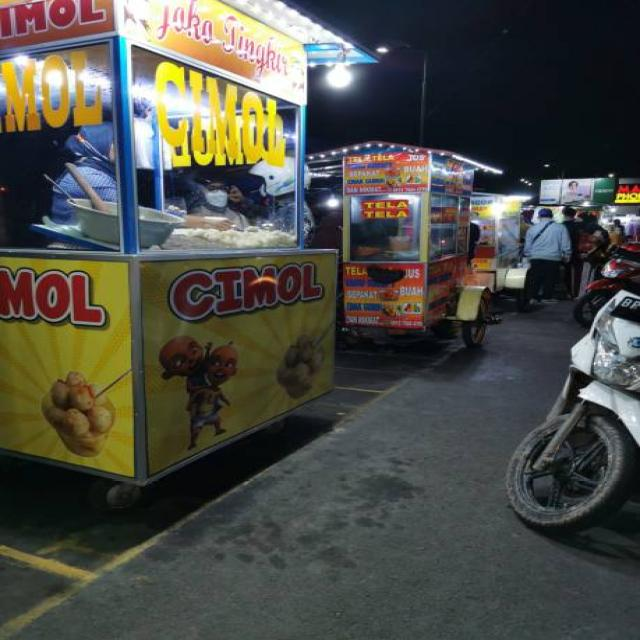Emperan: (0, 0, 409, 520), (300, 132, 508, 388)
